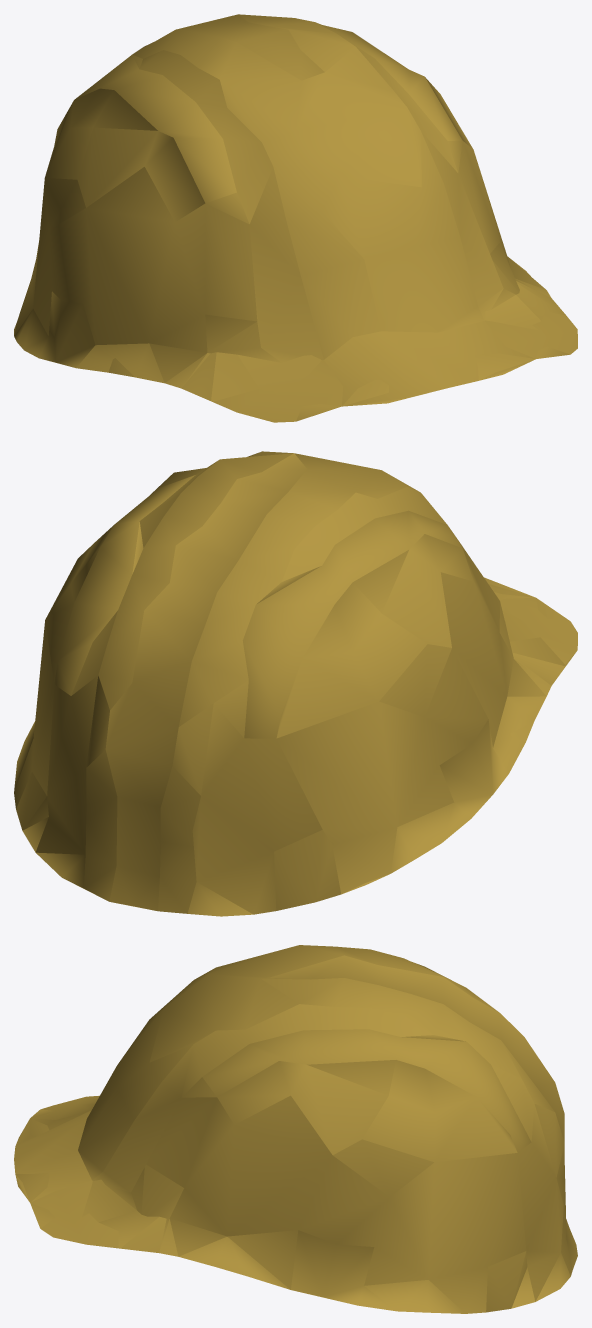
The model's file is ConstructionHelmet.FBX.
3 views of the same model, one above another, from view 1: azimuth 30°, elevation 25°; view 2: azimuth 150°, elevation 25°; view 3: azimuth 270°, elevation 25° (orthographic). The views are drawn at different scales.
Visible parts, largest first — view 1: ConstructionHelmet; view 2: ConstructionHelmet; view 3: ConstructionHelmet.
Boxes of the visible parts, bbox=[...] form: ConstructionHelmet: bbox=[14, 14, 577, 422]; ConstructionHelmet: bbox=[14, 451, 577, 916]; ConstructionHelmet: bbox=[14, 945, 577, 1313].
Size of the model in its own units: 0.9404 by 0.676 by 1.18.
Materials: 1 (1 with a texture image).
